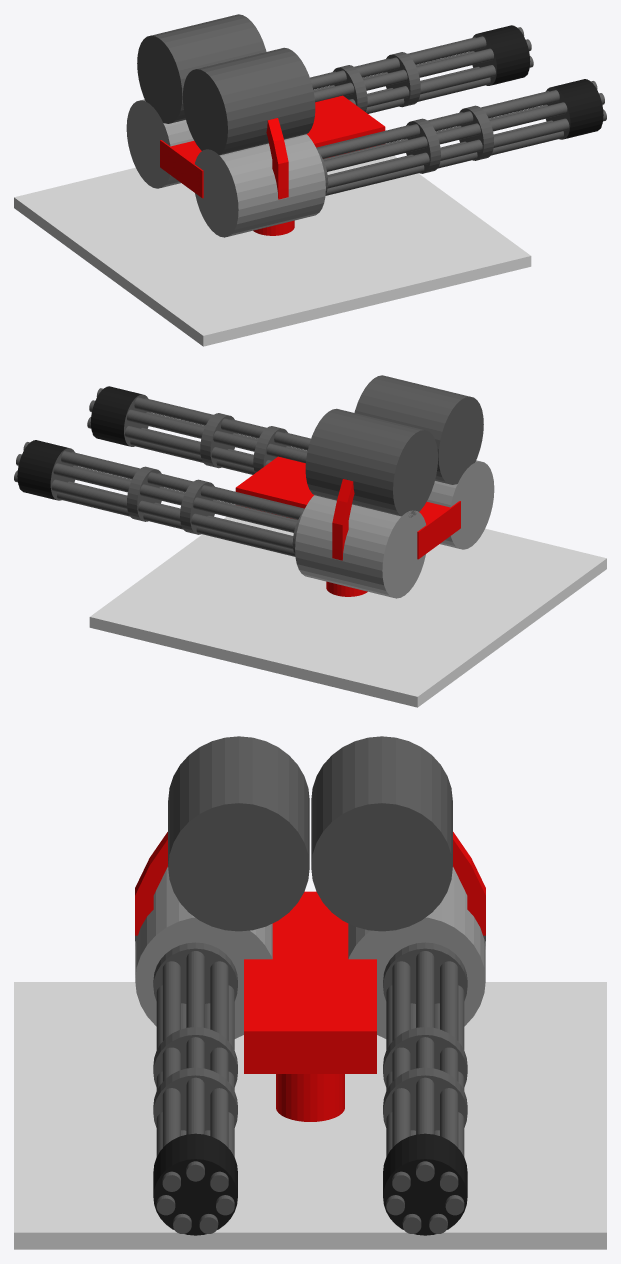
File: Enemy.fbx
3 views of the same model, one above another, from view 1: azimuth 30°, elevation 25°; view 2: azimuth 150°, elevation 25°; view 3: azimuth 270°, elevation 25° (orthographic). The views are drawn at different scales.
Parts seen in each view (by area): view 1: Cube.001, Cylinder.003, Cylinder, Cylinder.001, Cube; view 2: Cube.001, Cylinder.003, Cylinder.001, Cylinder, Cube; view 3: Cube.001, Cylinder.003, Cylinder, Cylinder.001, Cube, Cylinder.004.
Part boxes in pixels (bbox=[...]): Cube.001: bbox=[14, 155, 531, 346]; Cylinder.003: bbox=[126, 14, 325, 237]; Cylinder: bbox=[316, 79, 606, 195]; Cylinder.001: bbox=[310, 25, 533, 113]; Cube: bbox=[160, 95, 385, 198]; Cube.001: bbox=[89, 516, 606, 707]; Cylinder.003: bbox=[295, 375, 494, 598]; Cylinder.001: bbox=[14, 440, 304, 556]; Cylinder: bbox=[87, 386, 310, 474]; Cube: bbox=[235, 456, 460, 559]; Cube.001: bbox=[14, 982, 606, 1249]; Cylinder.003: bbox=[135, 736, 485, 1038]; Cylinder: bbox=[153, 942, 237, 1235]; Cylinder.001: bbox=[383, 942, 467, 1235]; Cube: bbox=[244, 891, 376, 1073]; Cylinder.004: bbox=[276, 1074, 344, 1121].
Bounding box in the file's own units: 8726 × 3783 × 6371.
